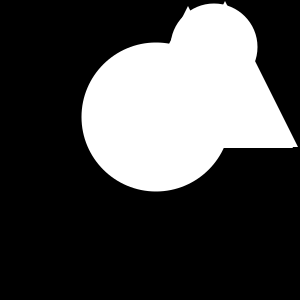rectangle: (82, 43, 230, 192), (170, 4, 258, 90)
triangle: (152, 1, 298, 147), (151, 6, 293, 148), (149, 6, 227, 84)
